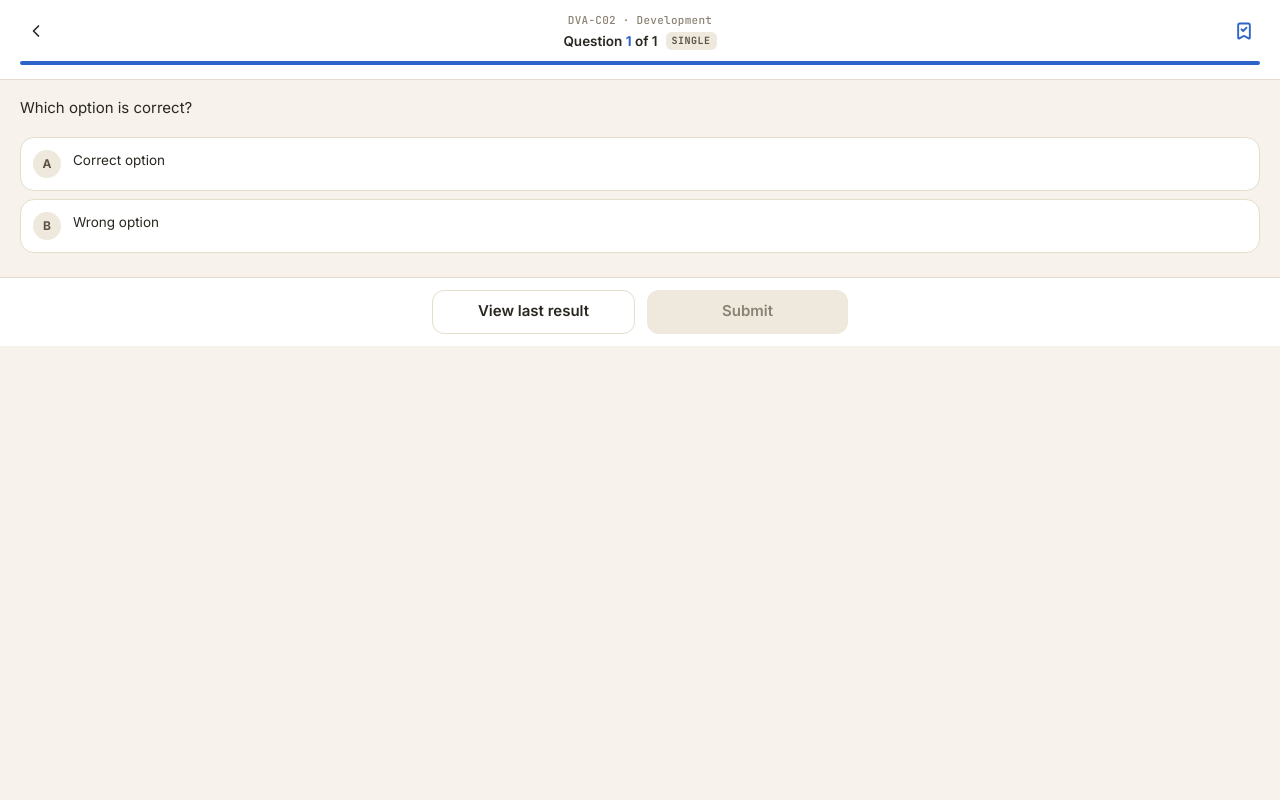
Test case: progress page compatibility › shows only next after viewing a list-review previous result
The image size is (1280, 800).
Click the button "View last result": (534, 312) [432,290,635,334]
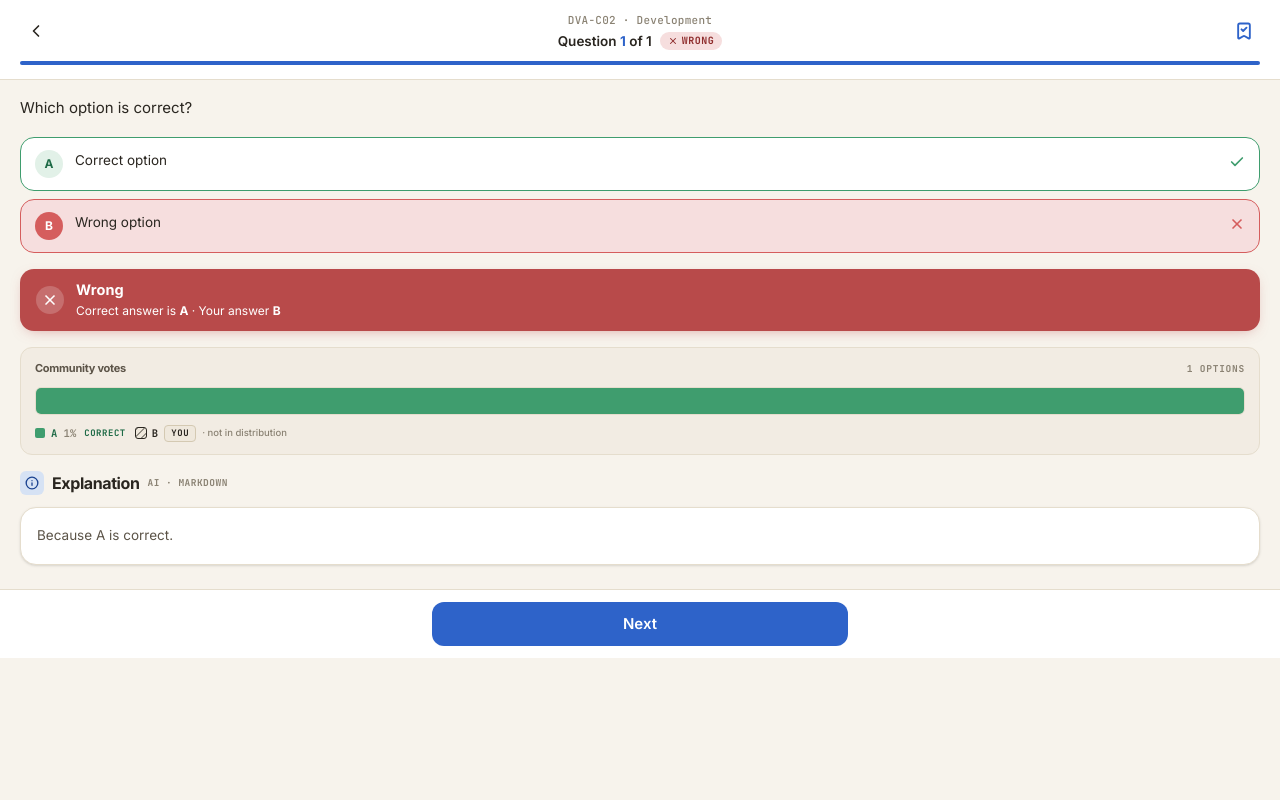
Expected: the text "Wrong" is shown, [660,32,722,50]
Expected: the text "Because A is correct." is shown, [37,527,173,543]
Expected: the button "Submit" is gone
